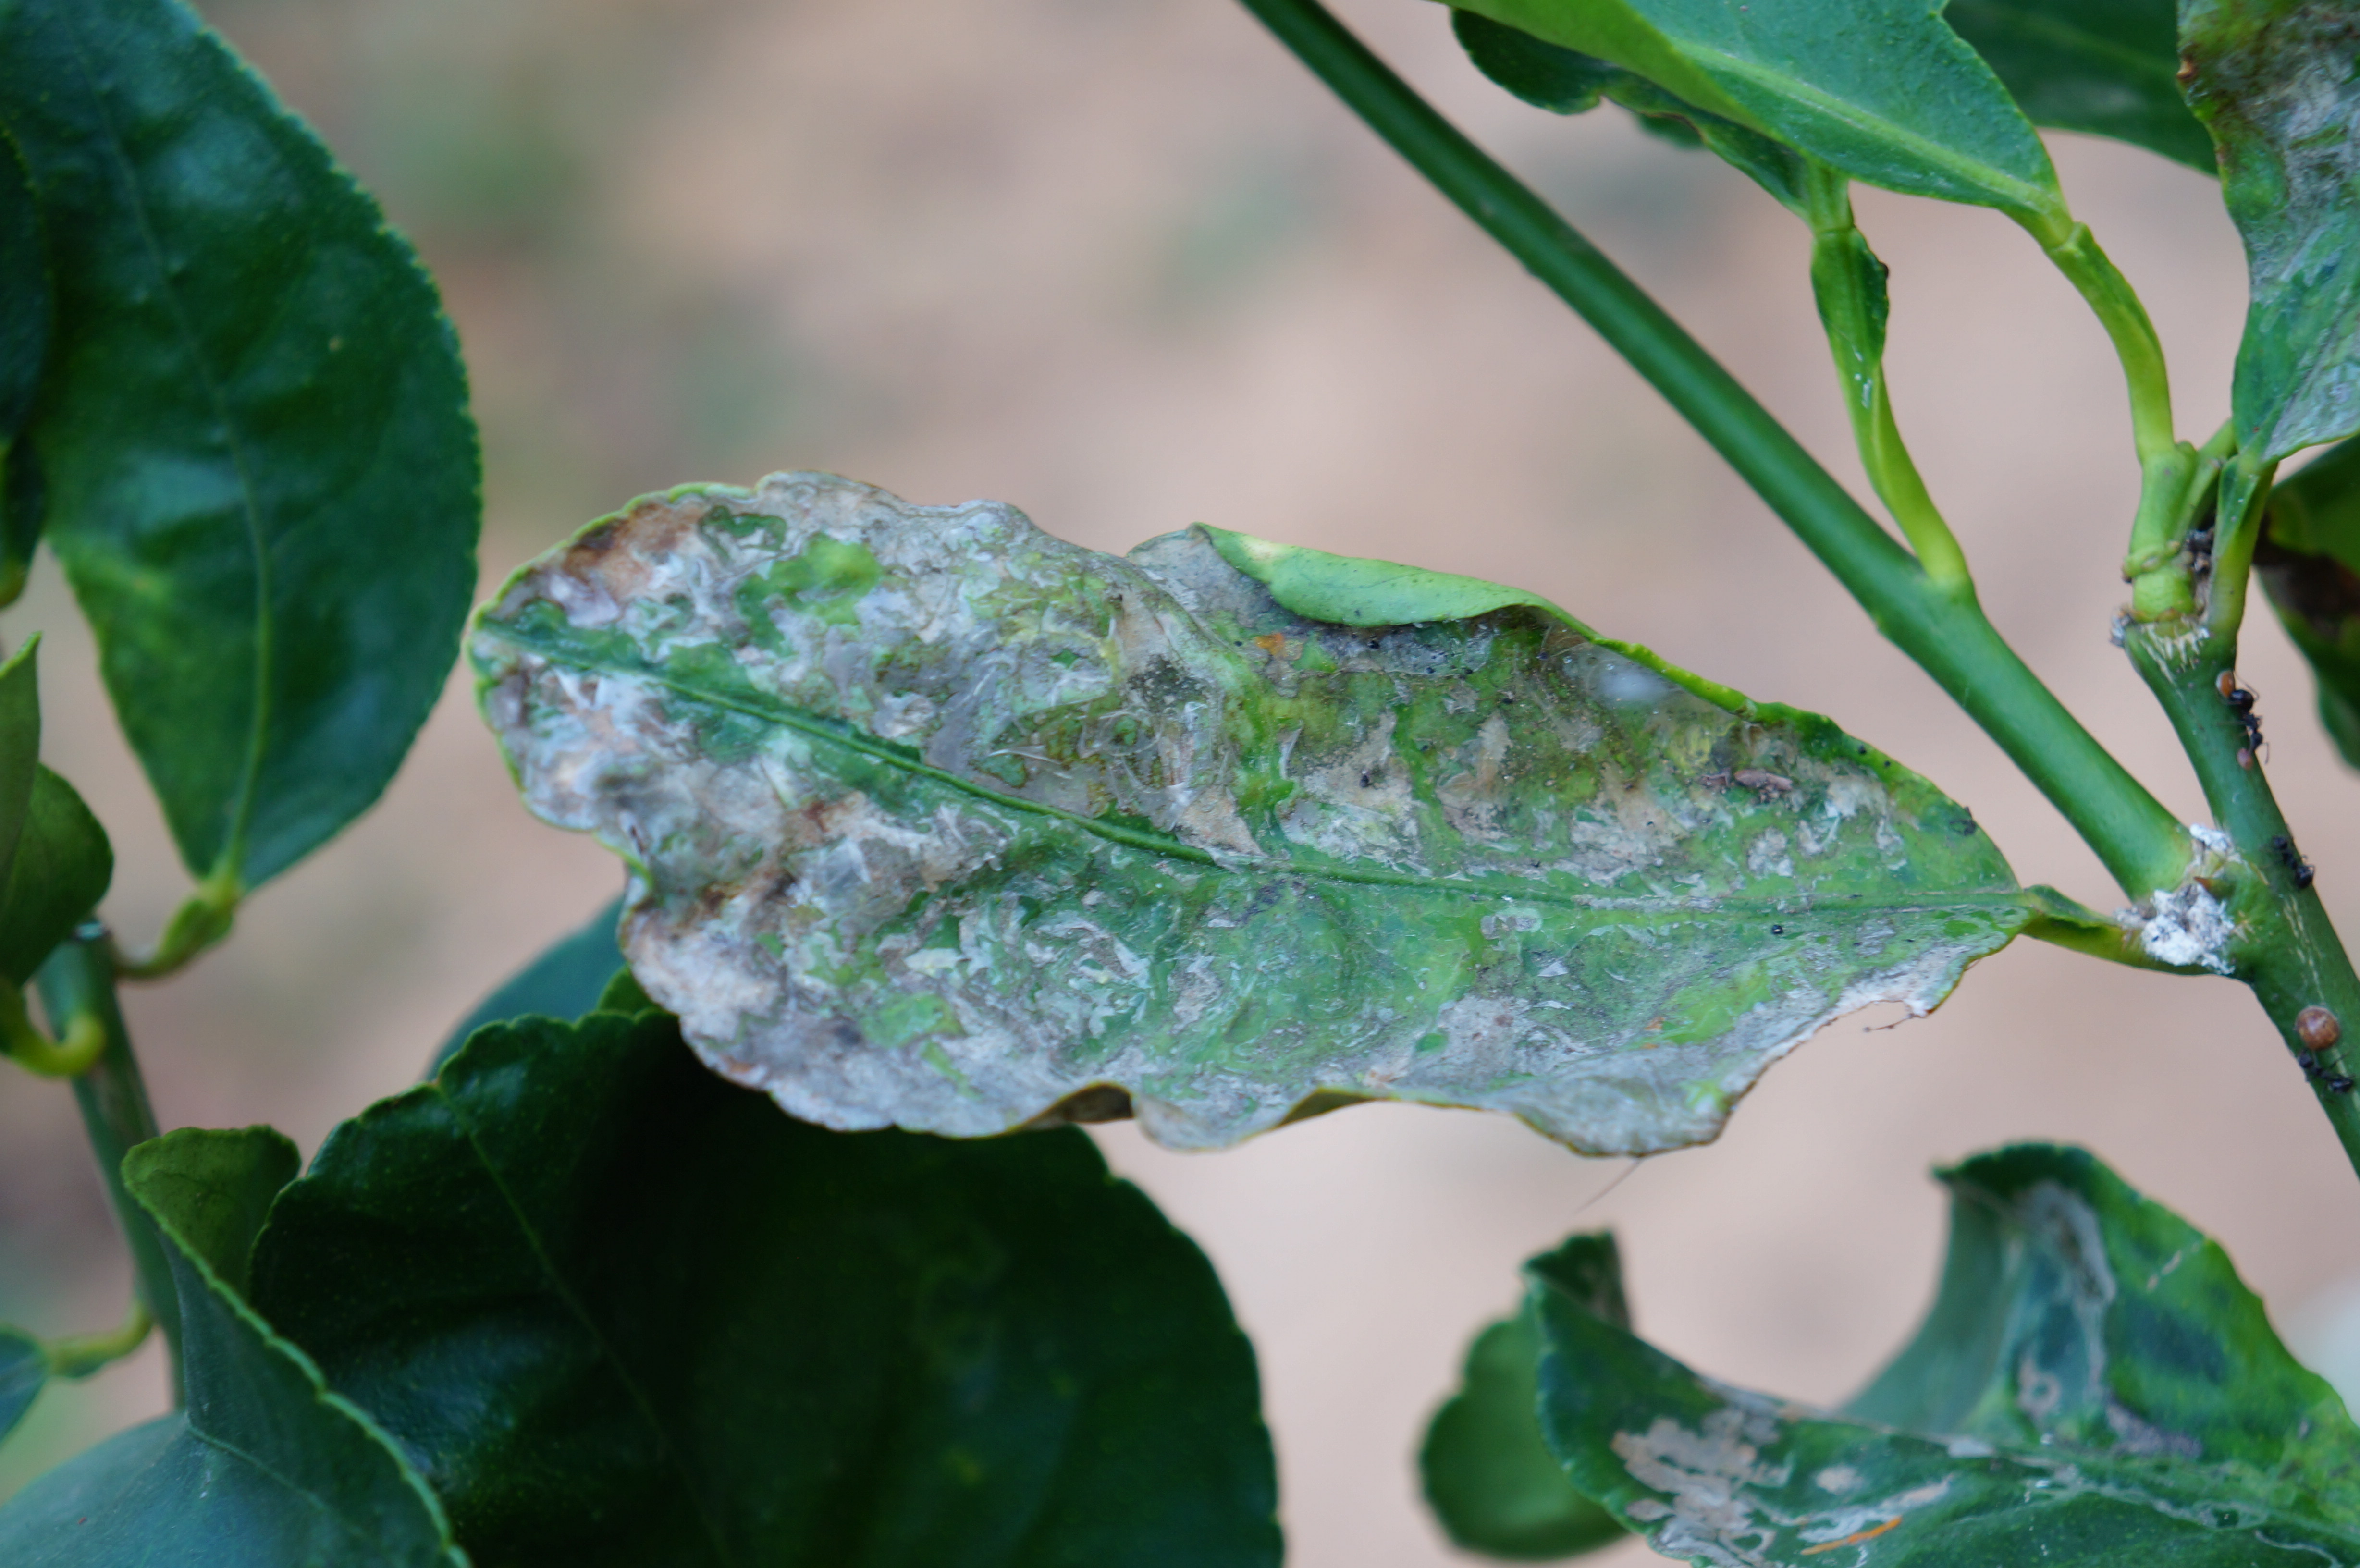damage: (460, 458, 2035, 1174), (1594, 1360, 1875, 1564)
